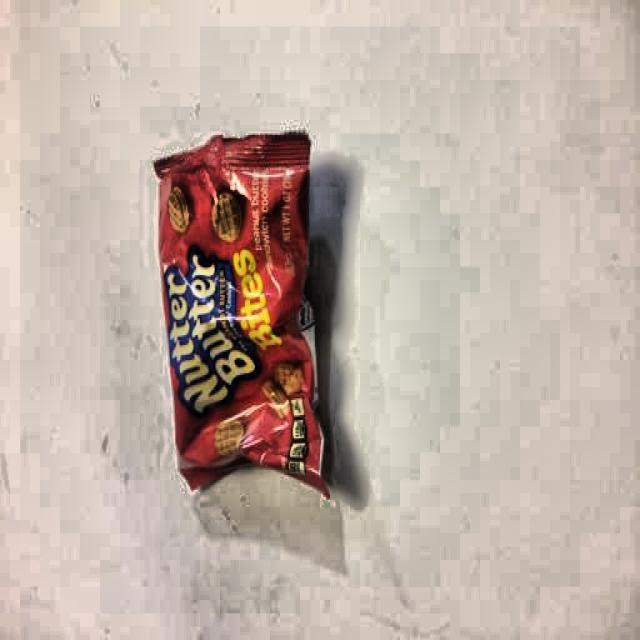trash: (150, 127, 335, 493)
